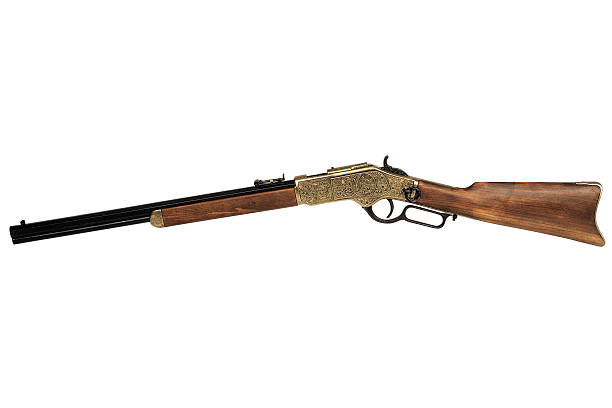shotgun: (7, 147, 612, 271)
